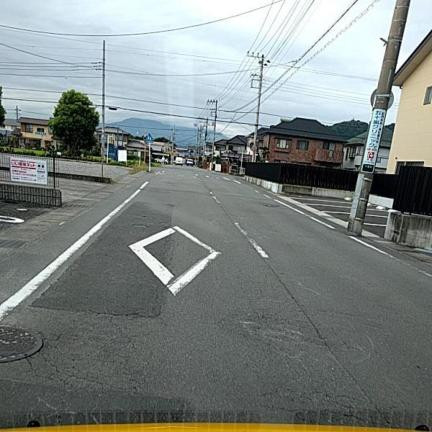Road: (0, 167, 431, 426)
